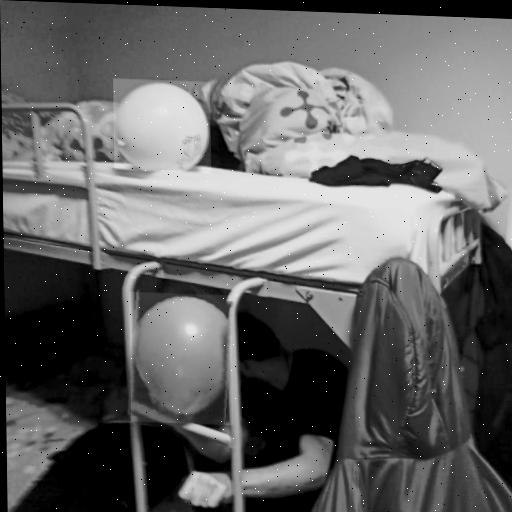balloon: (129, 292, 233, 425), (113, 79, 211, 173)
